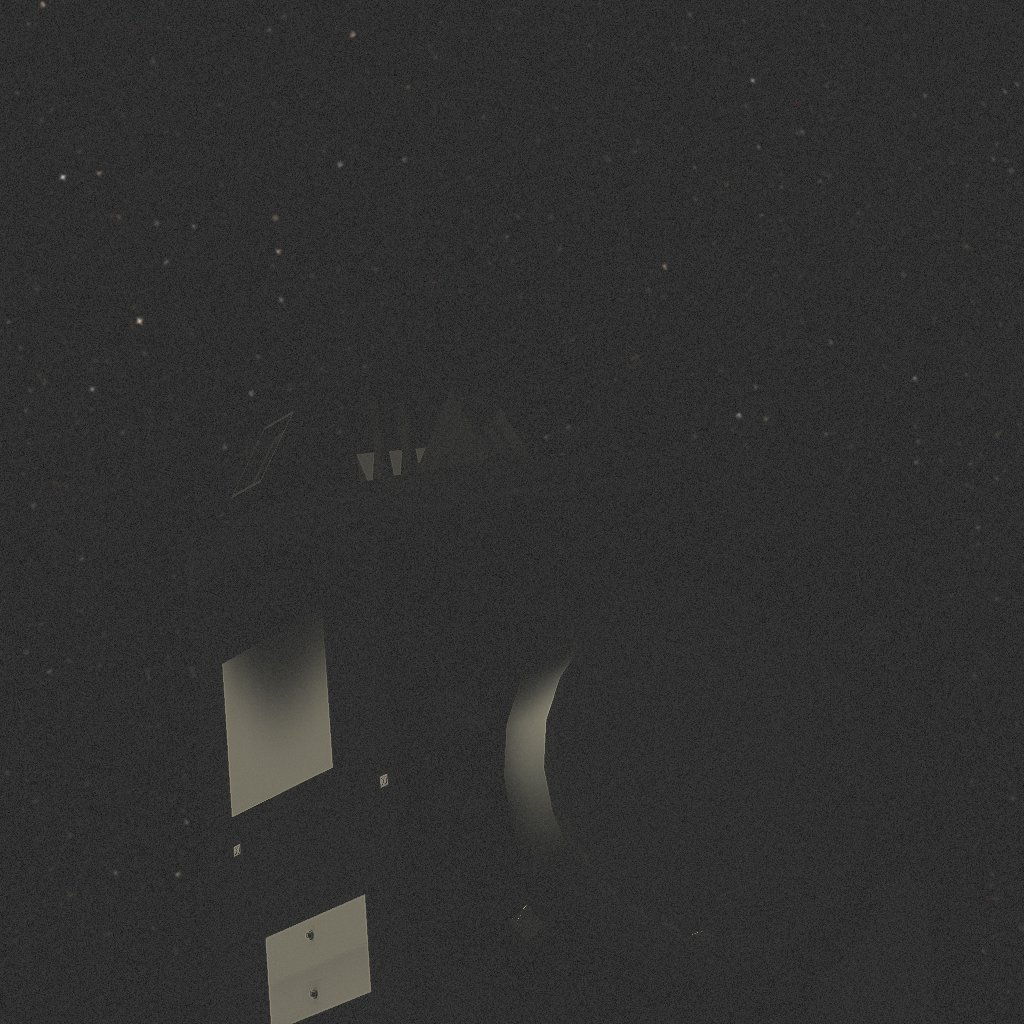proba_3_ocs: (187, 394, 986, 1024)
